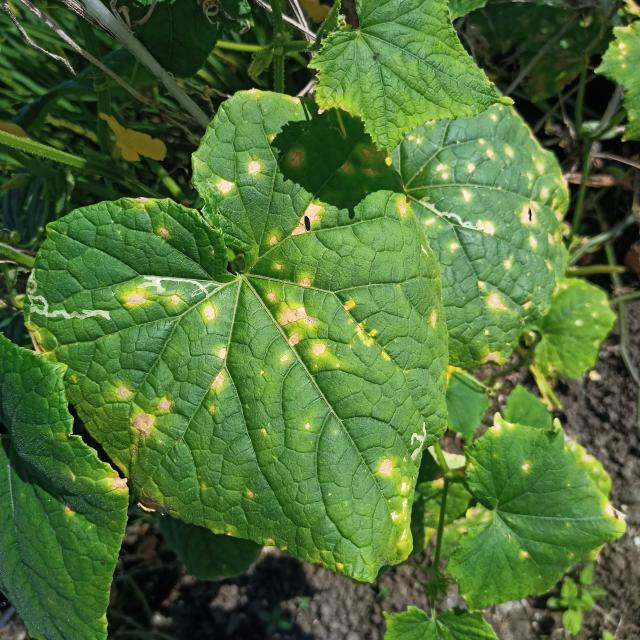disease_cucumber: (88, 134, 436, 543), (414, 110, 569, 332)
